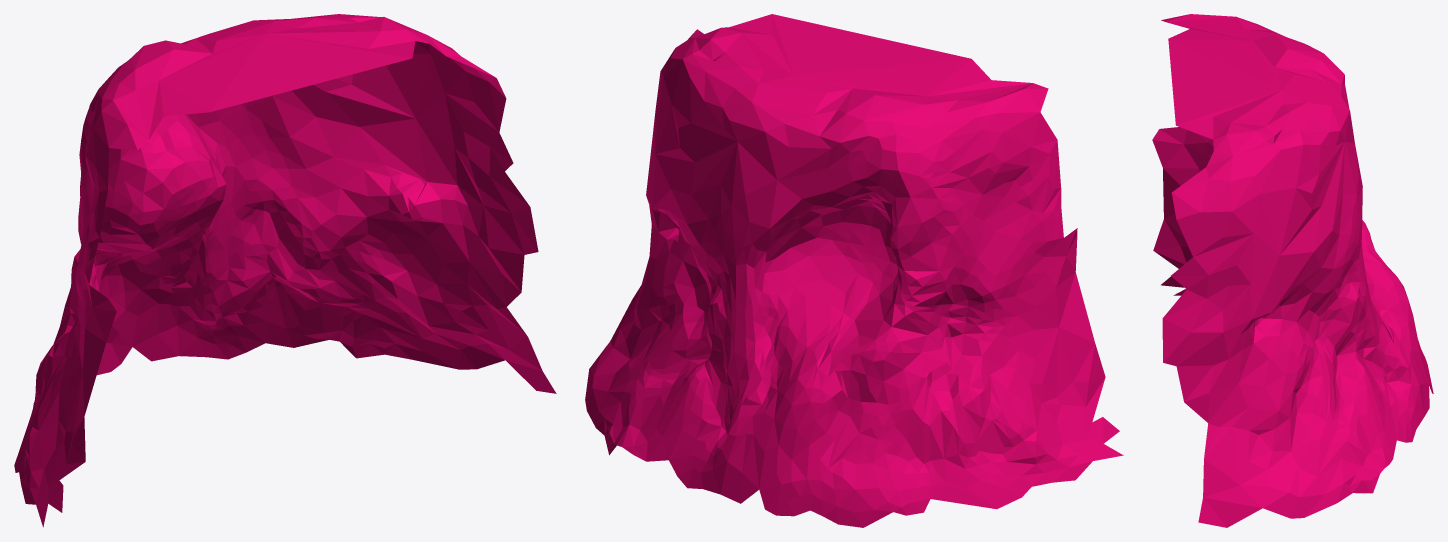
File: ENV_Archaeology_Wall.fbx
3 views of the same model, side by side, from view 1: azimuth 30°, elevation 25°; view 2: azimuth 150°, elevation 25°; view 3: azimuth 270°, elevation 25° (orthographic). The views are drawn at different scales.
Parts seen in each view (by area): view 1: ENV_Archaeology_Wall; view 2: ENV_Archaeology_Wall; view 3: ENV_Archaeology_Wall.
Part boxes in pixels (x1,y1,x2,y2): ENV_Archaeology_Wall: (14,14,556,527); ENV_Archaeology_Wall: (585,14,1123,527); ENV_Archaeology_Wall: (1152,14,1433,527).
Bounding box in the file's own units: 442 × 321 × 237.
